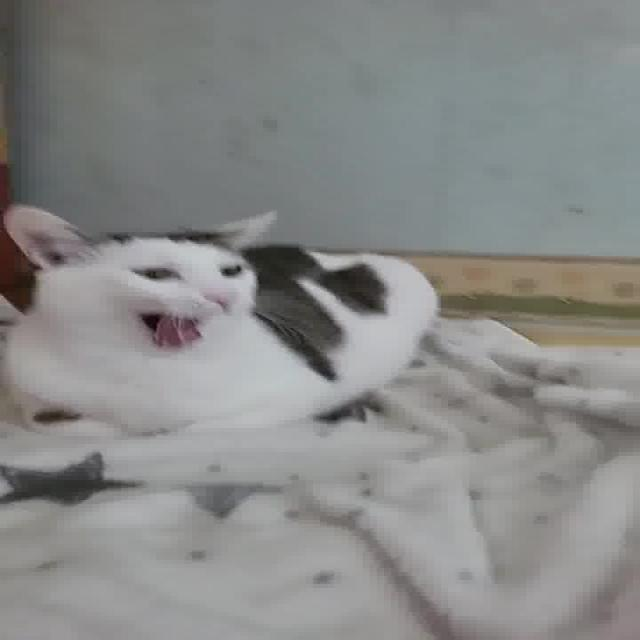cat: (2, 202, 451, 446)
